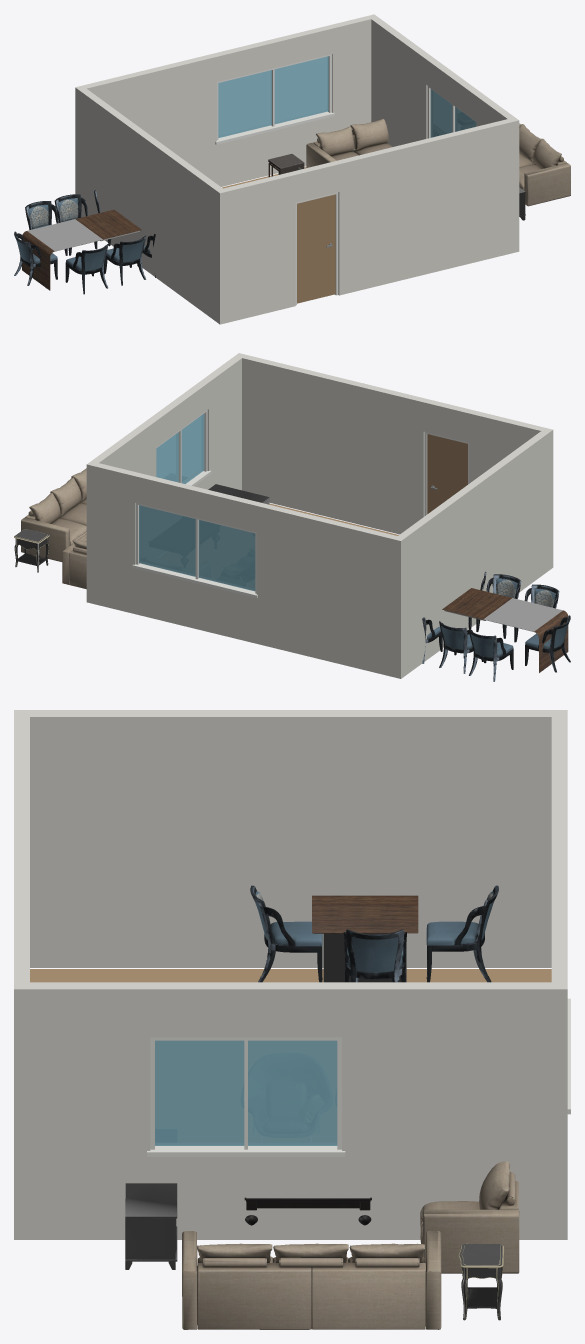
Rendered from diffuscene.glb.
3 views of the same model, one above another, from view 1: azimuth 30°, elevation 25°; view 2: azimuth 150°, elevation 25°; view 3: azimuth 270°, elevation 25° (orthographic). The views are drawn at different scales.
Visible parts, largest first — view 1: wall|scenesmith_029__R00|0, wall|scenesmith_029__R00|1, wall|scenesmith_029__R00|2, wall|scenesmith_029__R00|3, wall|scenesmith_029__R00|1 Window 0 | glazing, solid, raw_model.001, wall|scenesmith_029__R00|0 Door 0 | wood leaf, raw_model, wall|scenesmith_029__R00|1 Window 0 | jamb, wall|scenesmith_029__R00|3 Window 0 | glazing, wall|scenesmith_029__R00|0 Door 0 | jamb (+1 smaller); view 2: wall|scenesmith_029__R00|1, wall|scenesmith_029__R00|0, wall|scenesmith_029__R00|2, wall|scenesmith_029__R00|3, wall|scenesmith_029__R00|1 Window 0 | glazing, raw_model.001, solid, raw_model, wall|scenesmith_029__R00|0 Door 0 | wood leaf, wall|scenesmith_029__R00|3 Window 0 | glazing, wall|scenesmith_029__R00|1 Window 0 | jamb, solid_001 (+3 smaller); view 3: wall|scenesmith_029__R00|2, wall|scenesmith_029__R00|3, solid, wall|scenesmith_029__R00|3 Window 0 | glazing, wall|scenesmith_029__R00|1, wall|scenesmith_029__R00|0, raw_model.001, floor, raw_model, wall|scenesmith_029__R00|3 Window 0 | jamb, raw_model.008, solid_001 (+1 smaller).
Boxes of the visible parts, left/top/right/bottom form: wall|scenesmith_029__R00|0: left=216, top=117, right=518, bottom=322; wall|scenesmith_029__R00|1: left=75, top=16, right=371, bottom=194; wall|scenesmith_029__R00|2: left=75, top=85, right=227, bottom=324; wall|scenesmith_029__R00|3: left=367, top=14, right=519, bottom=253; wall|scenesmith_029__R00|1 Window 0 | glazing: left=218, top=56, right=328, bottom=137; solid: left=306, top=118, right=570, bottom=206; raw_model.001: left=14, top=190, right=155, bottom=294; wall|scenesmith_029__R00|0 Door 0 | wood leaf: left=297, top=194, right=335, bottom=303; raw_model: left=22, top=209, right=141, bottom=290; wall|scenesmith_029__R00|1 Window 0 | jamb: left=215, top=54, right=334, bottom=144; wall|scenesmith_029__R00|3 Window 0 | glazing: left=430, top=89, right=476, bottom=137; wall|scenesmith_029__R00|0 Door 0 | jamb: left=295, top=192, right=338, bottom=305; wall|scenesmith_029__R00|1: left=94, top=463, right=405, bottom=678; wall|scenesmith_029__R00|0: left=235, top=353, right=552, bottom=534; wall|scenesmith_029__R00|2: left=393, top=430, right=553, bottom=678; wall|scenesmith_029__R00|3: left=86, top=356, right=241, bottom=603; wall|scenesmith_029__R00|1 Window 0 | glazing: left=139, top=505, right=255, bottom=591; raw_model.001: left=422, top=571, right=570, bottom=681; solid: left=21, top=468, right=86, bottom=589; raw_model: left=442, top=588, right=568, bottom=672; wall|scenesmith_029__R00|0 Door 0 | wood leaf: left=427, top=434, right=467, bottom=513; wall|scenesmith_029__R00|3 Window 0 | glazing: left=156, top=413, right=204, bottom=483; wall|scenesmith_029__R00|1 Window 0 | jamb: left=132, top=503, right=257, bottom=598; solid_001: left=14, top=529, right=49, bottom=572; wall|scenesmith_029__R00|2: left=30, top=710, right=567, bottom=967; wall|scenesmith_029__R00|3: left=30, top=982, right=567, bottom=1239; solid: left=182, top=1161, right=519, bottom=1329; wall|scenesmith_029__R00|3 Window 0 | glazing: left=155, top=1040, right=337, bottom=1145; wall|scenesmith_029__R00|1: left=551, top=710, right=567, bottom=1239; wall|scenesmith_029__R00|0: left=14, top=710, right=29, bottom=1239; raw_model.001: left=250, top=885, right=498, bottom=982; floor: left=30, top=969, right=551, bottom=982; raw_model: left=312, top=895, right=418, bottom=982; wall|scenesmith_029__R00|3 Window 0 | jamb: left=147, top=1037, right=345, bottom=1156; raw_model.008: left=125, top=1183, right=177, bottom=1269; solid_001: left=458, top=1243, right=503, bottom=1320.
Bounding box in the file's own units: 10.44 × 2.62 × 5.23.
14 materials, 8 textured.
